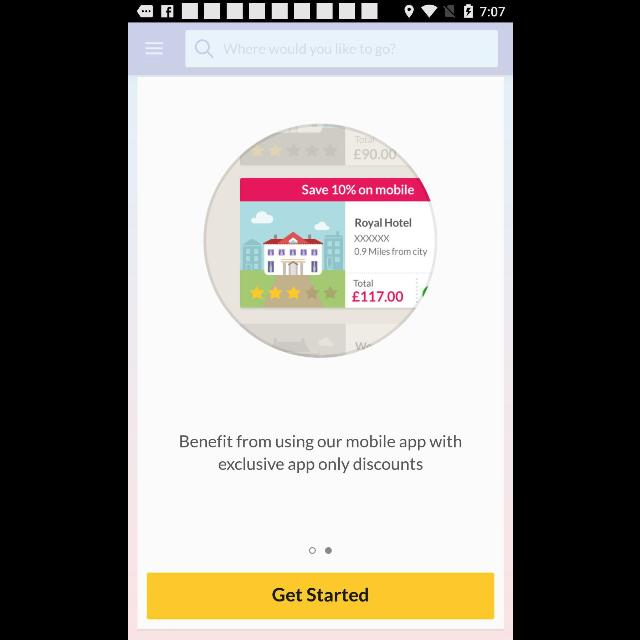image: (202, 124, 438, 358)
pageindicator: (308, 547, 332, 555)
text: (180, 434, 462, 474)
textbutton: (146, 572, 494, 620)
uppertaskbar: (128, 1, 512, 23)
